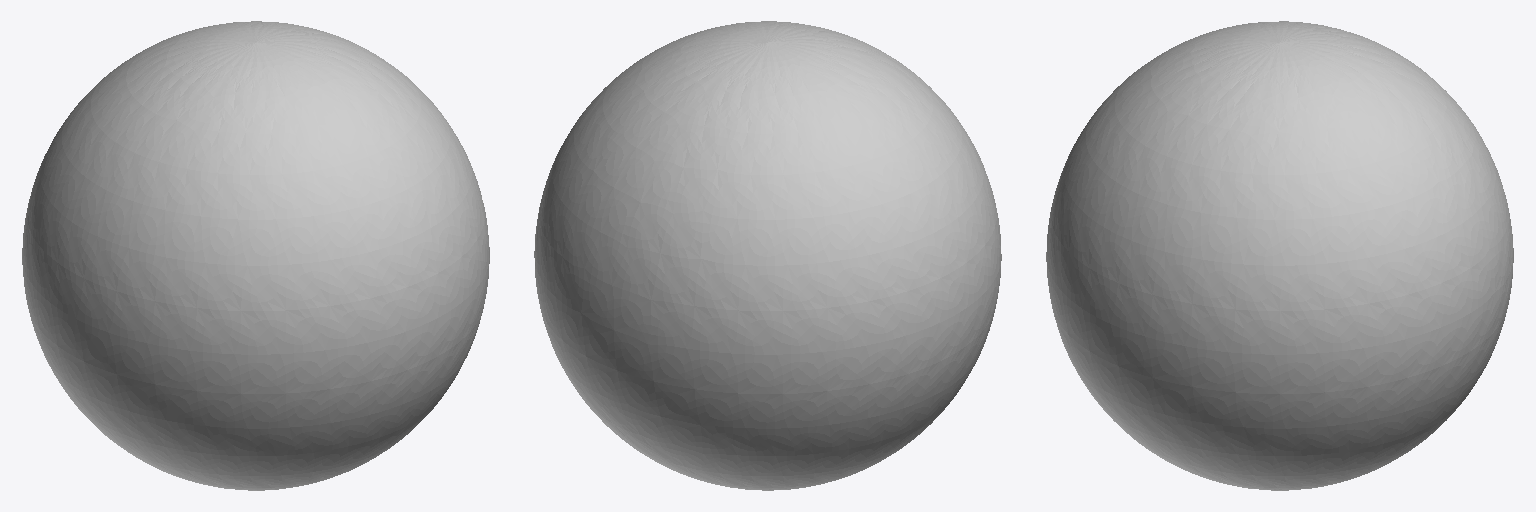
Rendered from sphere_fat.obj.
The picture shows the model from 3 angles: view 1: azimuth 30°, elevation 25°; view 2: azimuth 150°, elevation 25°; view 3: azimuth 270°, elevation 25°; orthographic projection.
Parts seen in each view (by area): view 1: Sphere; view 2: Sphere; view 3: Sphere.
Boxes of the visible parts, <box> form: Sphere: <box>22,21,489,490</box>; Sphere: <box>534,21,1001,490</box>; Sphere: <box>1046,21,1513,490</box>.
Bounding box in the file's own units: 1.98 × 2 × 1.98.